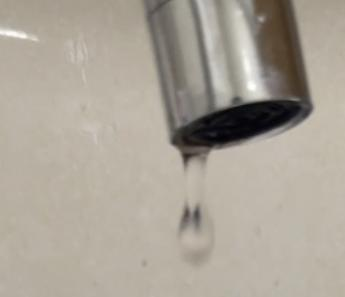water drop: (174, 136, 216, 266)
